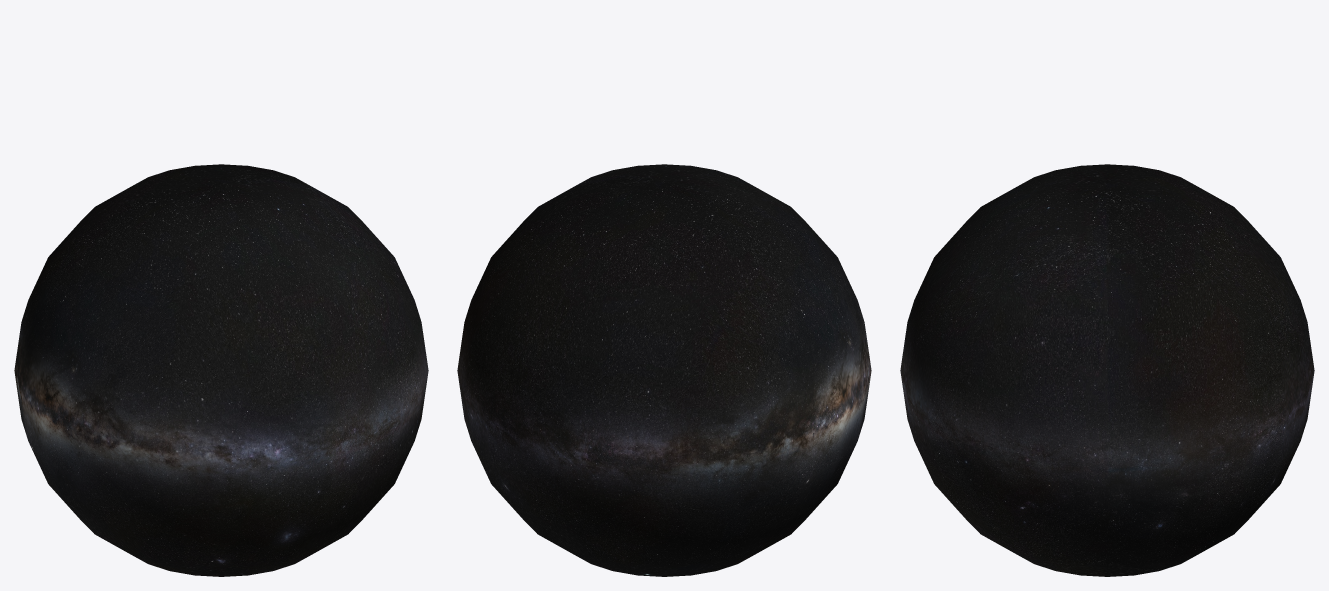
File: moku_solarsystem_0008.dae
3 views of the same model, side by side, from view 1: azimuth 30°, elevation 25°; view 2: azimuth 150°, elevation 25°; view 3: azimuth 270°, elevation 25° (orthographic).
Visible parts, largest first — view 1: Sphere.1; view 2: Sphere.1; view 3: Sphere.1.
Part boxes in pixels (x1,y1,x2,y2): Sphere.1: (14,164,428,576); Sphere.1: (457,164,871,576); Sphere.1: (900,164,1314,576).
Bounding box in the file's own units: 100 × 145 × 100.
12 materials, 10 textured.
